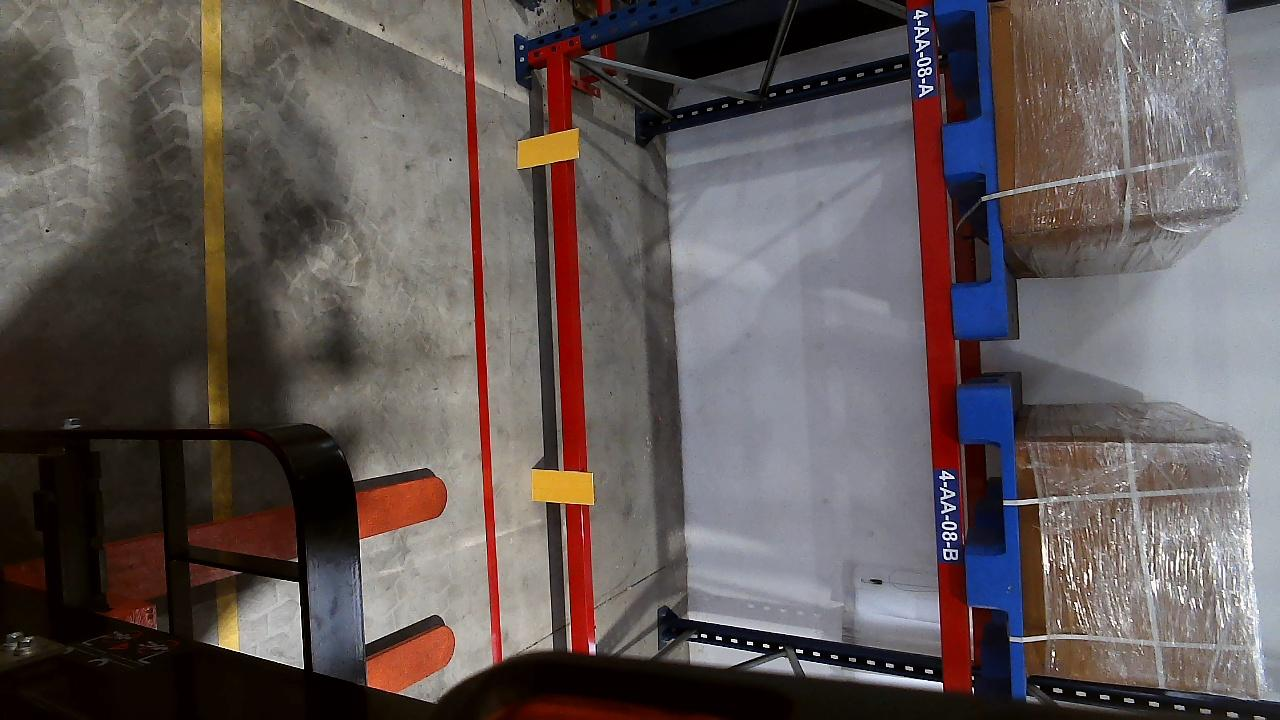h_rack: (909, 0, 948, 695), (546, 59, 588, 663)
orange_strip: (517, 128, 581, 168), (530, 469, 593, 505)
red_line: (466, 0, 504, 664)
small_pallet: (934, 0, 1007, 333), (955, 388, 1030, 689)
yellow_line: (200, 1, 232, 426)
